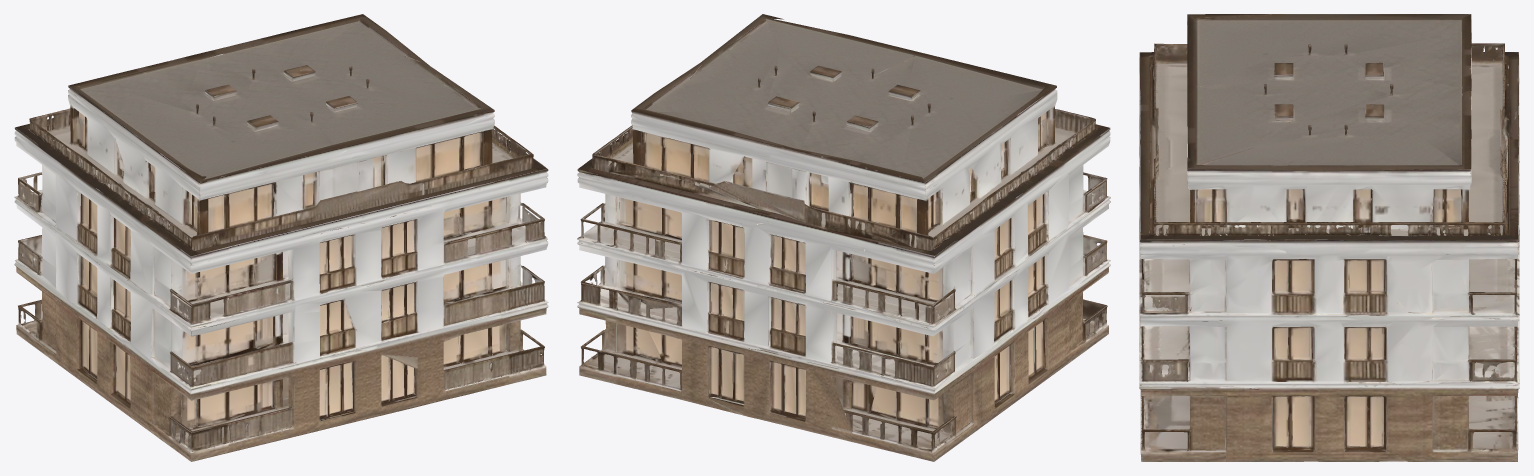
File: bbi-gebaeude.glb
3 views of the same model, side by side, from view 1: azimuth 30°, elevation 25°; view 2: azimuth 150°, elevation 25°; view 3: azimuth 270°, elevation 25° (orthographic). The views are drawn at different scales.
Visible parts, largest first — view 1: Mesh_0; view 2: Mesh_0; view 3: Mesh_0.
Part boxes in pixels (left/top/right/bottom): Mesh_0: left=14, top=14, right=548, bottom=461; Mesh_0: left=577, top=14, right=1110, bottom=461; Mesh_0: left=1139, top=14, right=1519, bottom=461.
Size of the model in its own units: 1.9 by 1.34 by 1.62.
Materials: 1 (1 with a texture image).
